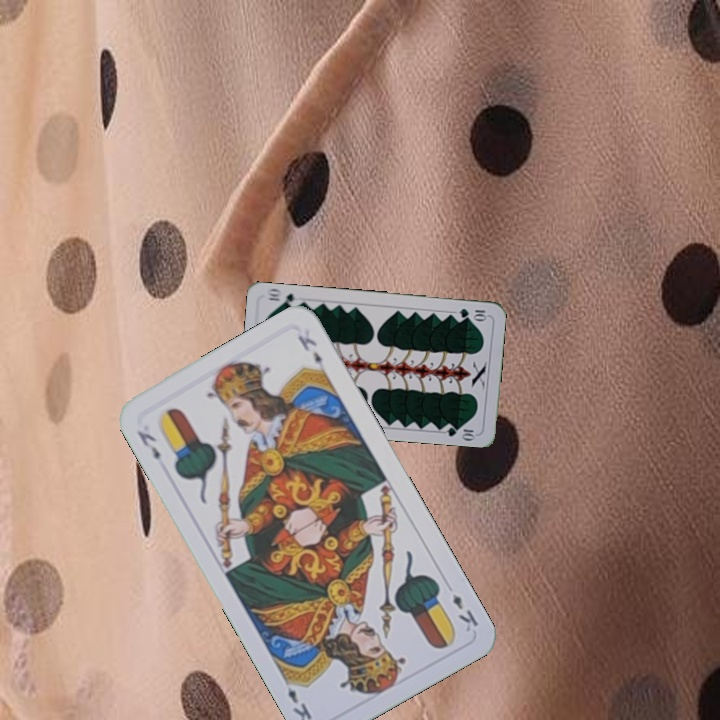EK: (448, 590, 481, 635), (132, 426, 163, 463)
G10: (455, 304, 490, 322)
